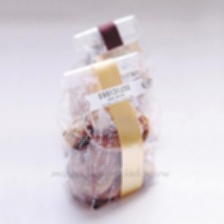snack: (49, 7, 170, 216)
